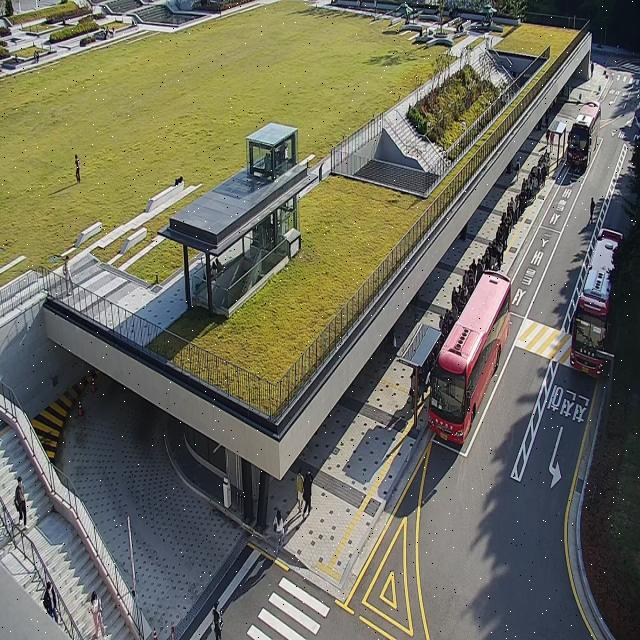queue: (414, 148, 550, 434)
